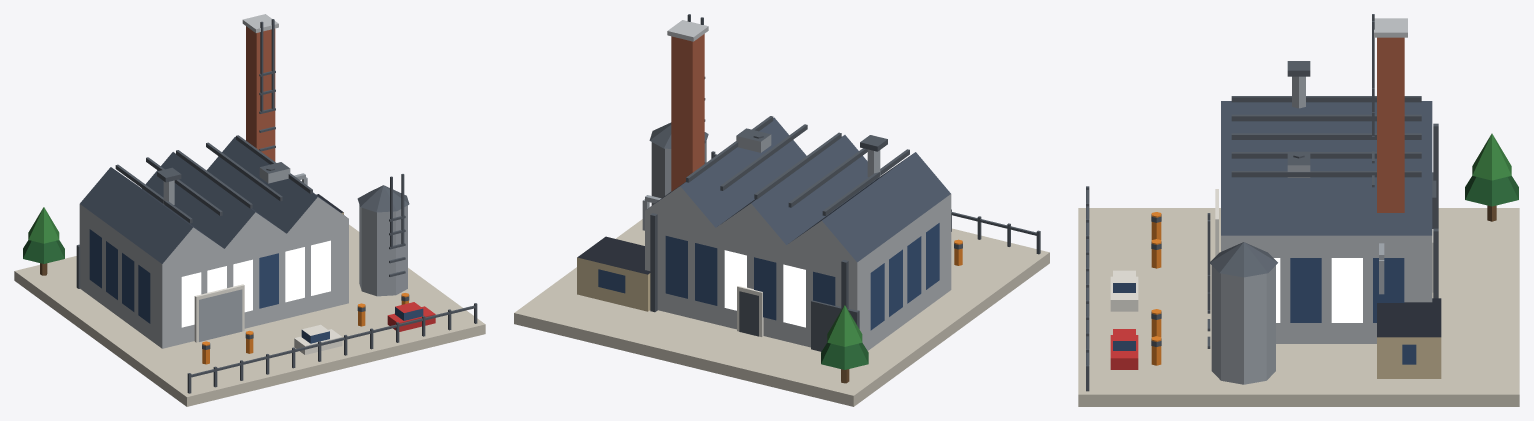
3 renders of one model, left to right at view 1: azimuth 30°, elevation 25°; view 2: azimuth 150°, elevation 25°; view 3: azimuth 270°, elevation 25°, orthographic. The views are drawn at different scales.
Visible parts, largest first — view 1: b37; view 2: b37; view 3: b37.
Boxes of the visible parts, x1,y1,x2,y2 form: b37: [14, 14, 485, 406]; b37: [514, 14, 1049, 406]; b37: [1078, 14, 1519, 406].
Bounding box in the file's own units: 0.9675 × 0.78 × 0.96.
